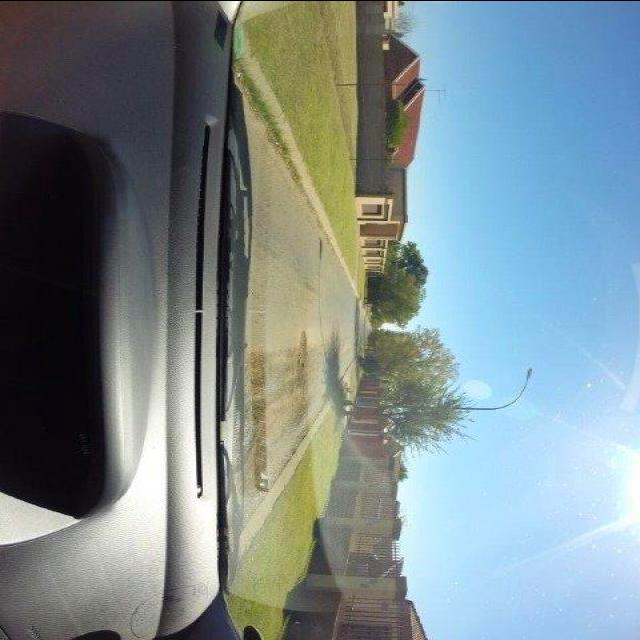lubang: (294, 324, 312, 423)
